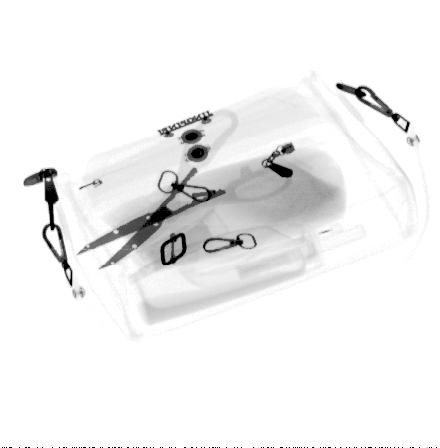Scissors: (75, 109, 294, 269)
